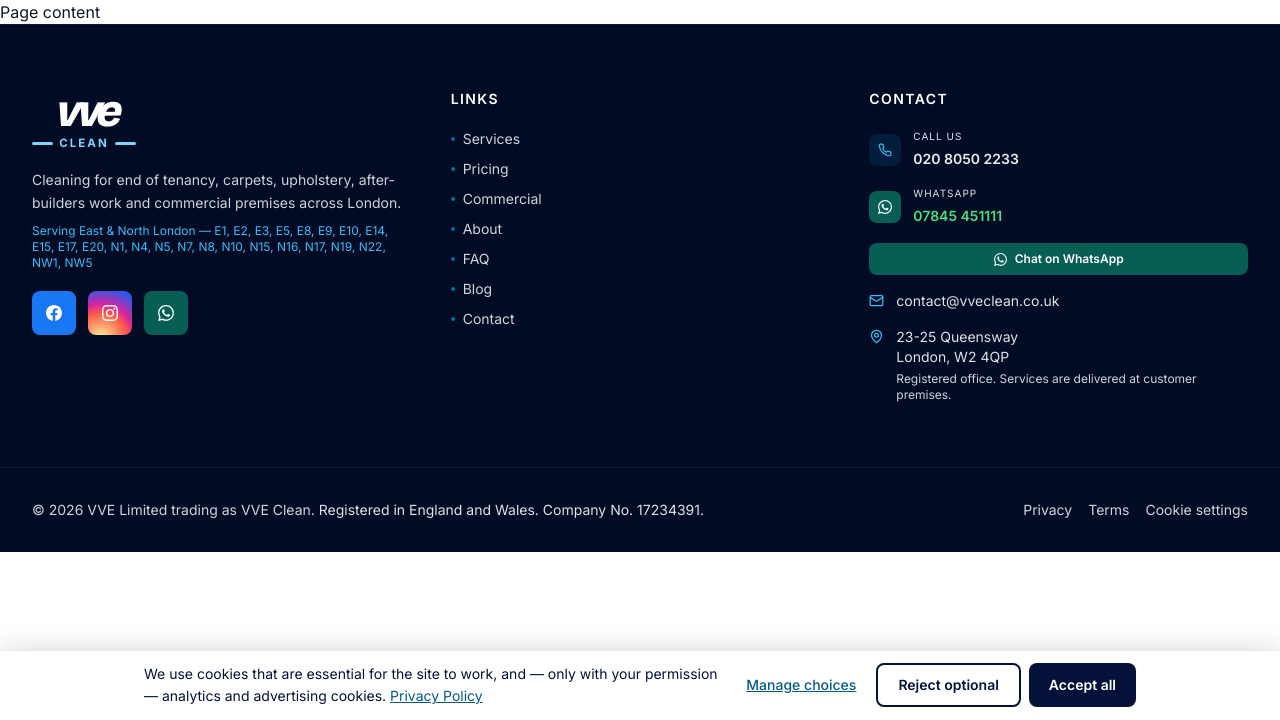
Test: CookieConsentProvider — Manage choices › closes on Escape without saving, and the banner remains since no choice was recorded
Click the button "Manage choices" at (801, 685), box [734, 663, 868, 707]
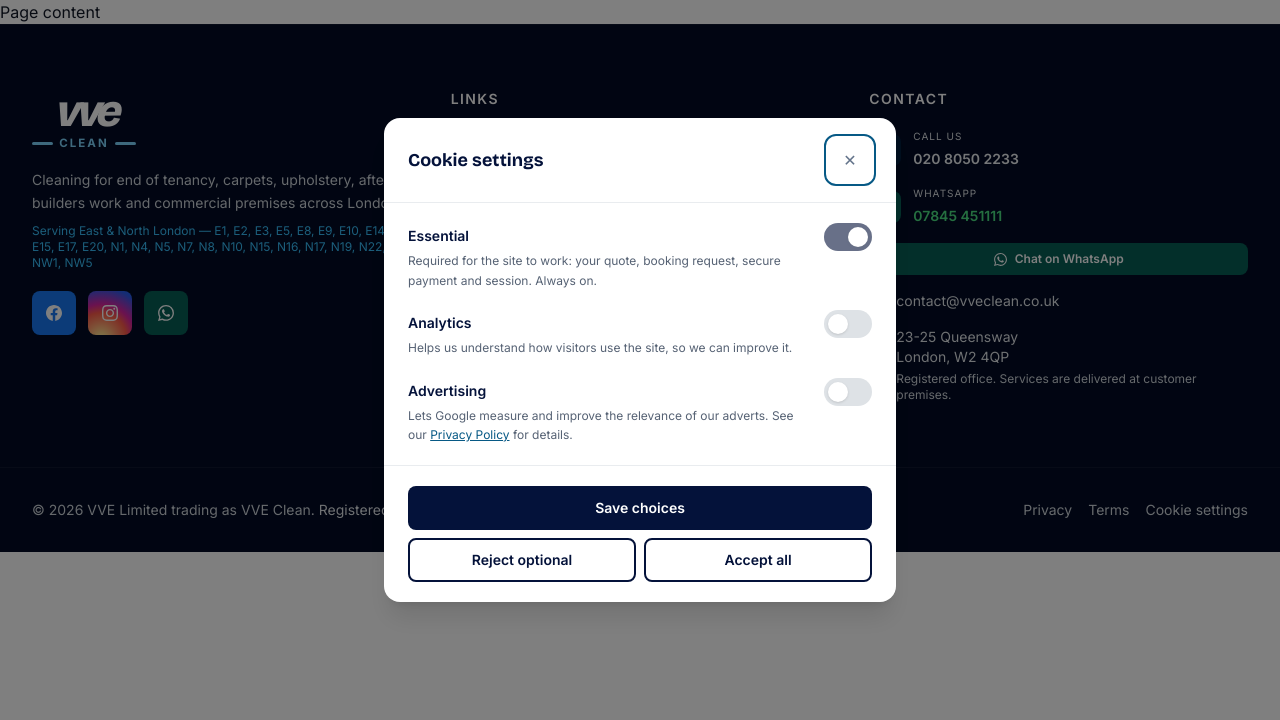
Click the switch with id "consent-analytics" at (848, 324), box [824, 310, 872, 338]
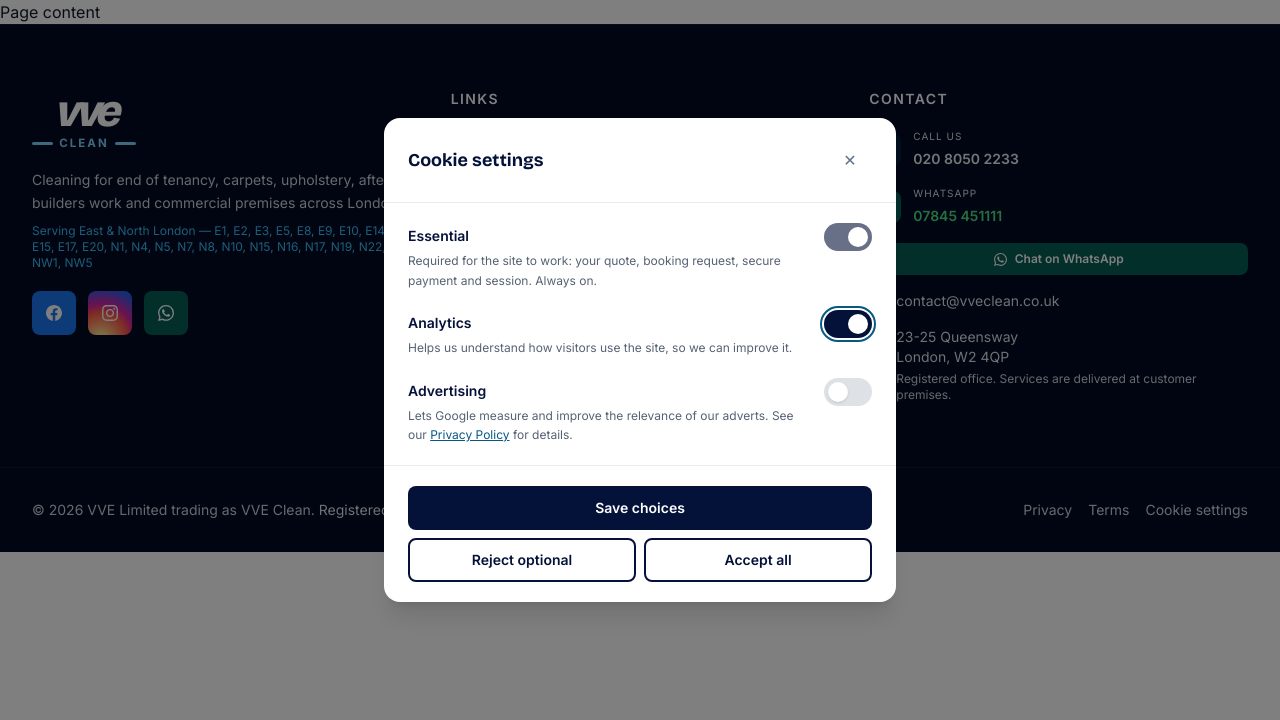
Press Escape
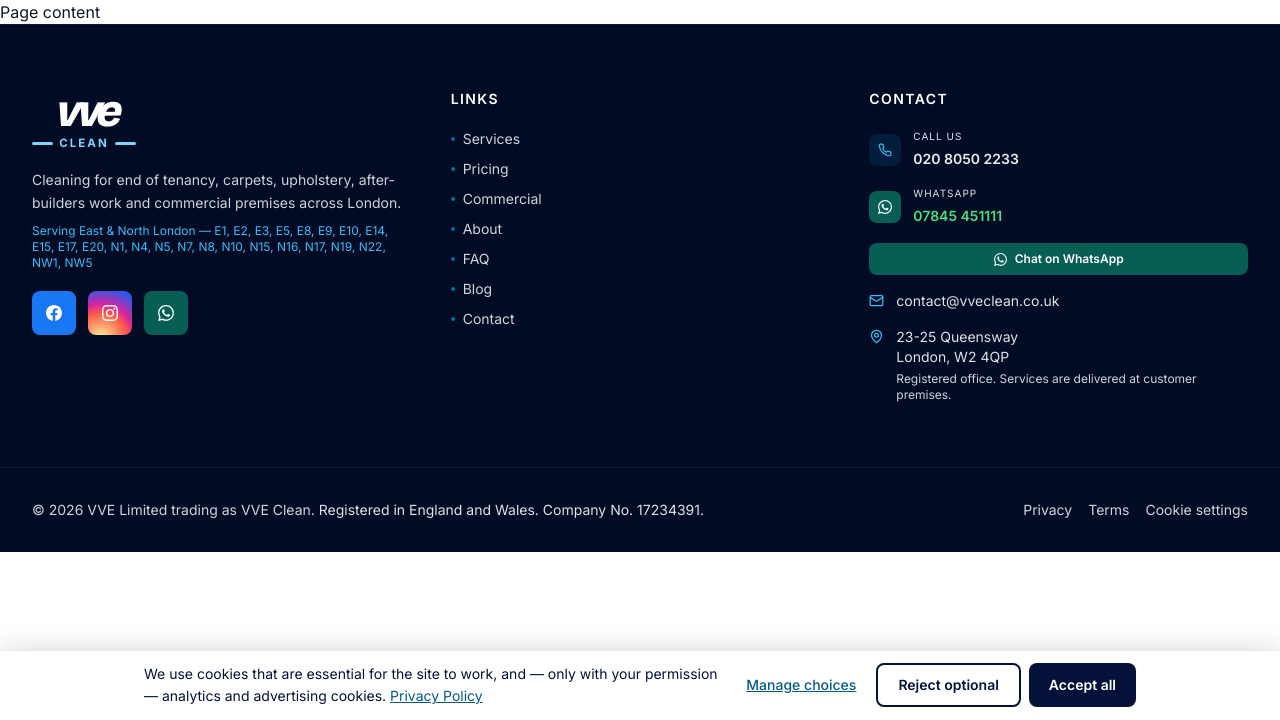
Now the dialog is gone
Now the element named "cookie consent" is shown, box [0, 650, 1279, 719]
